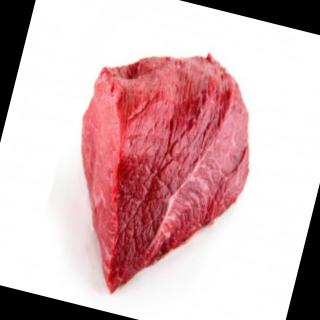Daging Sapi: (47, 29, 275, 312)
